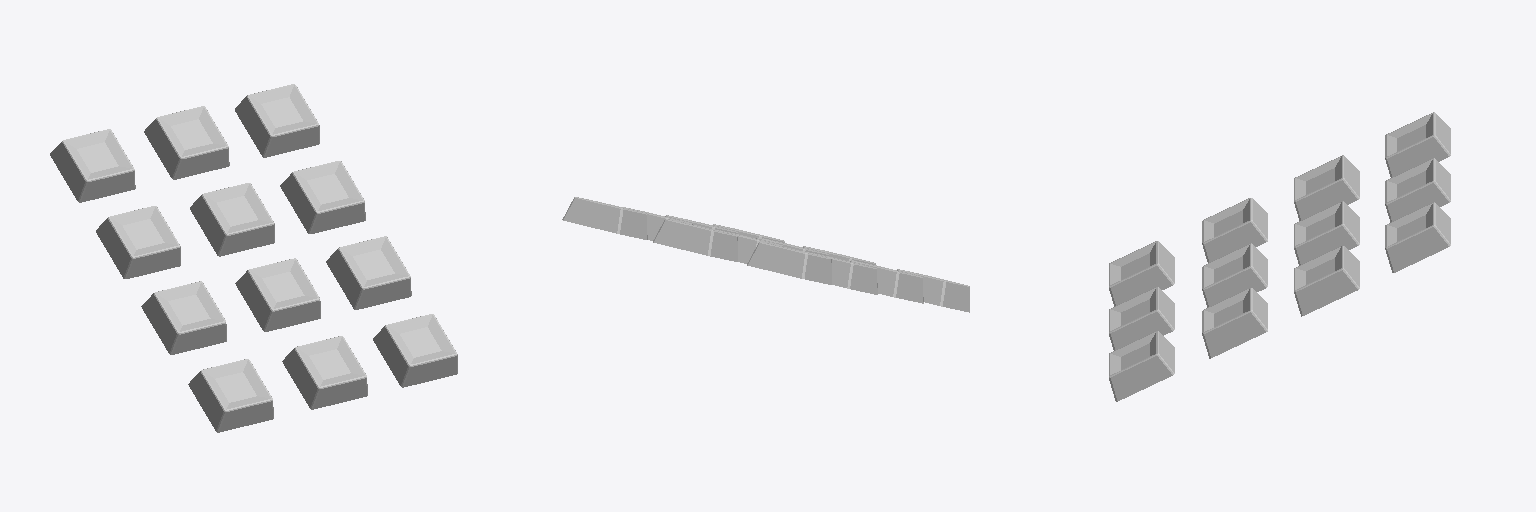
File: Button.obj
3 renders of one model, left to right at view 1: azimuth 30°, elevation 25°; view 2: azimuth 150°, elevation 25°; view 3: azimuth 270°, elevation 25°, orthographic.
Parts seen in each view (by area): view 1: Button; view 2: Button; view 3: Button.
Part boxes in pixels (bbox=[...]): Button: bbox=[50, 84, 457, 432]; Button: bbox=[562, 197, 969, 312]; Button: bbox=[1109, 112, 1450, 401].
Bounding box in the file's own units: 6.66 × 4.6 × 8.16.